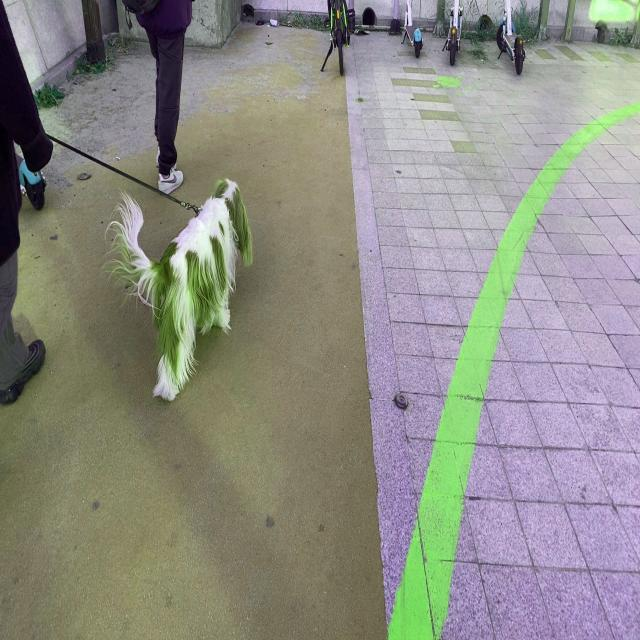Leashed_Dog: (0, 130, 253, 404)
